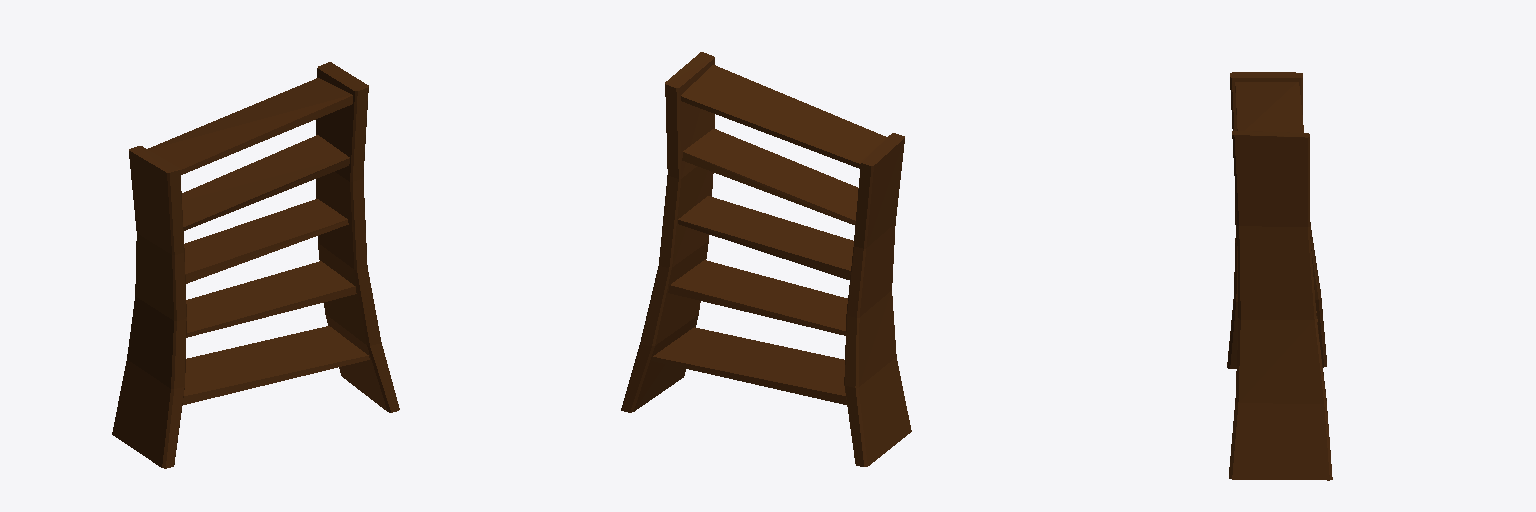
File: BookShelf.obj
3 renders of one model, left to right at view 1: azimuth 30°, elevation 25°; view 2: azimuth 150°, elevation 25°; view 3: azimuth 270°, elevation 25°, orthographic.
Visible parts, largest first — view 1: BookShelf; view 2: BookShelf; view 3: BookShelf.
Boxes of the visible parts, x1=… form: BookShelf: x1=112, y1=62, x2=399, y2=468; BookShelf: x1=621, y1=52, x2=911, y2=466; BookShelf: x1=1227, y1=72, x2=1332, y2=480.
Size of the model in its own units: 136 by 176 by 50.98.